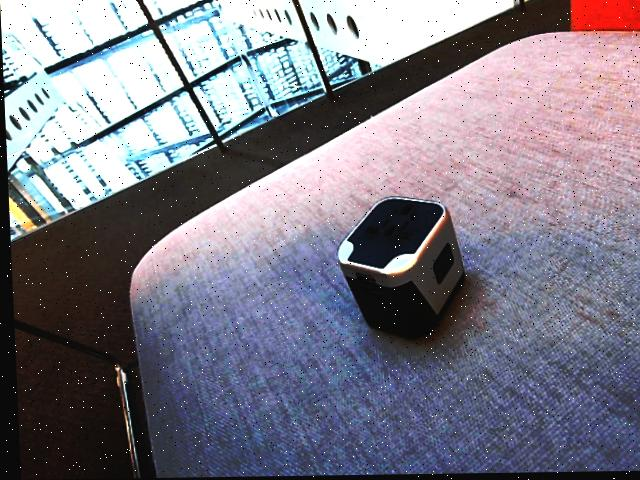adapter: (333, 196, 465, 341)
